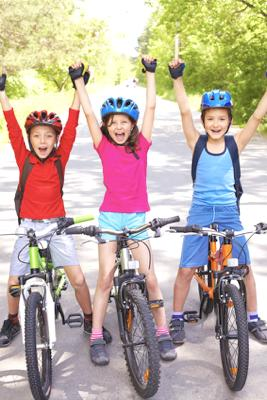With Helmet: (19, 106, 70, 165), (90, 97, 144, 148), (190, 89, 242, 138)
